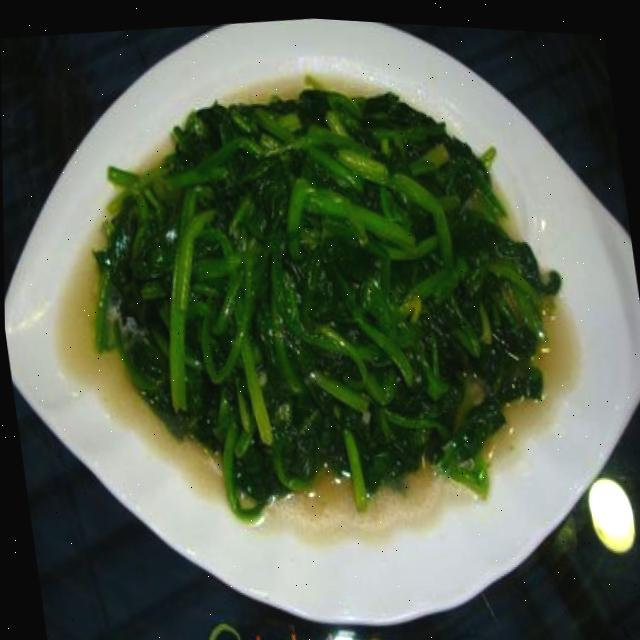蔬菜料理: (12, 1, 625, 625)
